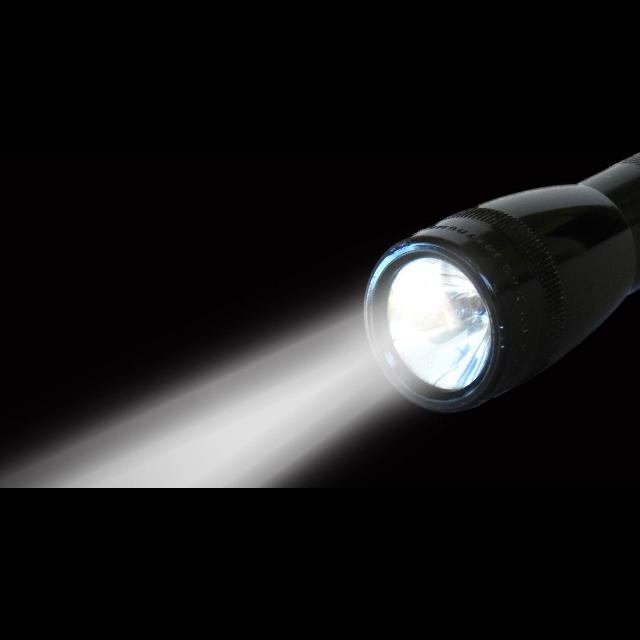Flashlight: (350, 152, 640, 426)
